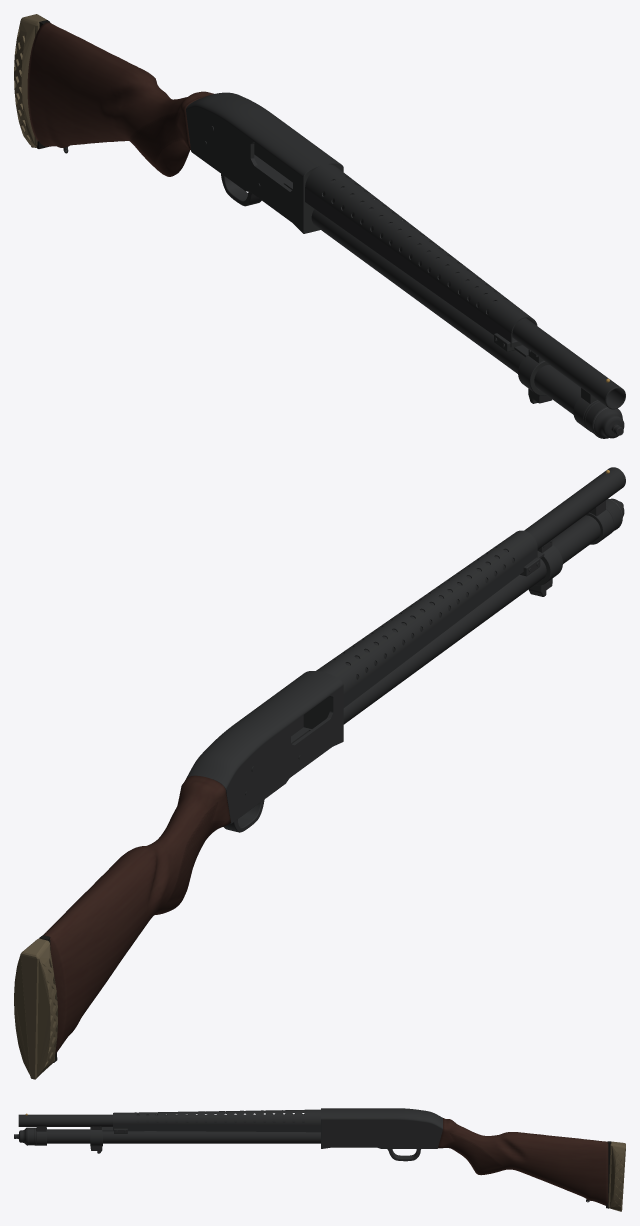
The model's file is SM_M590_Frame.fbx.
The picture shows the model from 3 angles, top to bottom: view 1: azimuth 30°, elevation 25°; view 2: azimuth 150°, elevation 25°; view 3: azimuth 270°, elevation 25°; orthographic projection. The views are drawn at different scales.
Visible parts, largest first — view 1: SM_M590_Frame; view 2: SM_M590_Frame; view 3: SM_M590_Frame.
Boxes of the visible parts, left/top/right/bottom form: SM_M590_Frame: left=14, top=14, right=625, bottom=438; SM_M590_Frame: left=14, top=467, right=625, bottom=1079; SM_M590_Frame: left=14, top=1108, right=625, bottom=1211.
Size of the model in its own units: 4.76 by 104 by 18.92.
